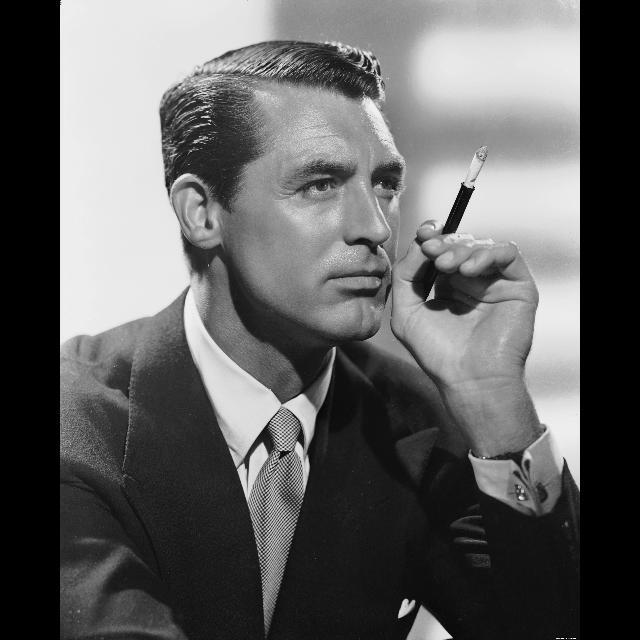rokok: (462, 140, 498, 180)
